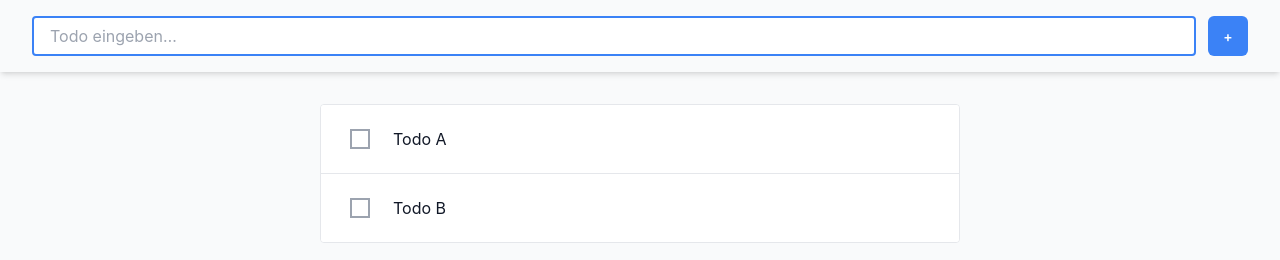
Test: FEAT-4 – Todo bearbeiten (Inline-Editing) › Doppelklick auf Todo-A öffnet Edit, dann Doppelklick auf Todo-B speichert A und öffnet B
Double-click the button "Todo A".
double_click(420, 139)  # box [393, 129, 447, 149]
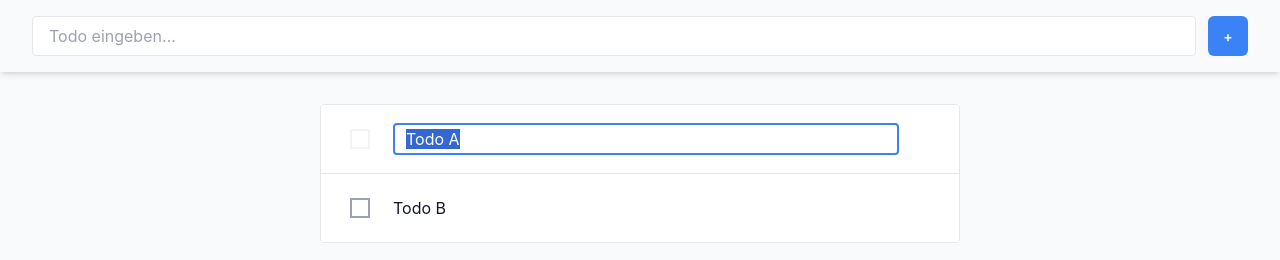
Replace the text in the field named "todo-titel bearbeiten" with "Todo A Geändert" at [646, 139], box [393, 123, 899, 155]
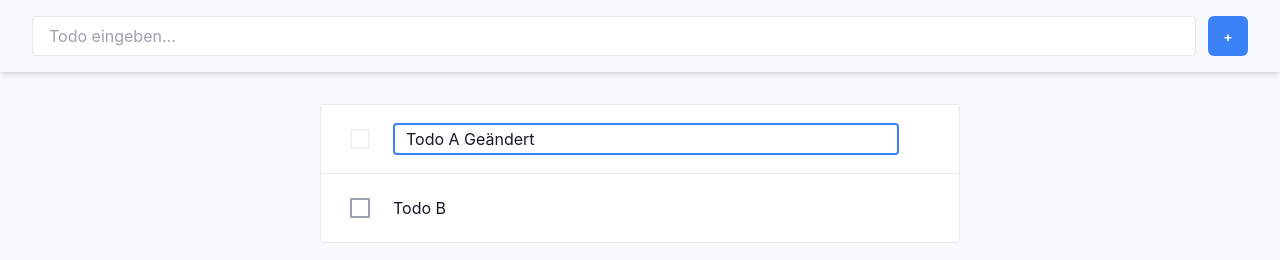
Double-click the button "Todo B".
double_click(420, 208)  # box [393, 198, 446, 218]
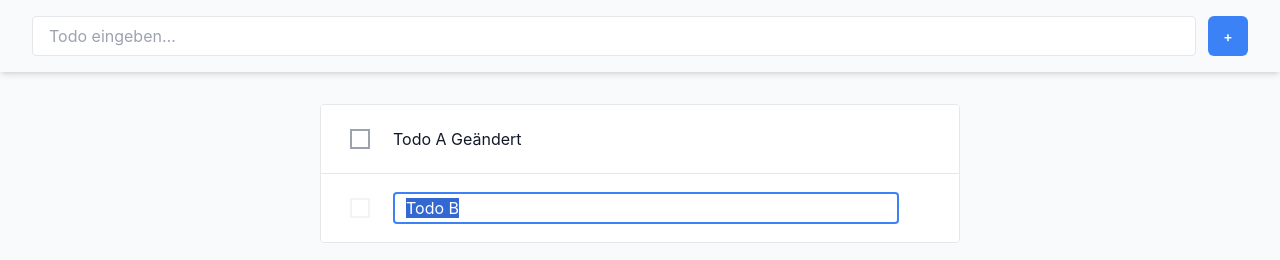
Expected: the button "Todo A Geändert" is shown, [393, 129, 522, 149]
Expected: the field named "todo-titel bearbeiten" holds "Todo B", [393, 192, 899, 224]
